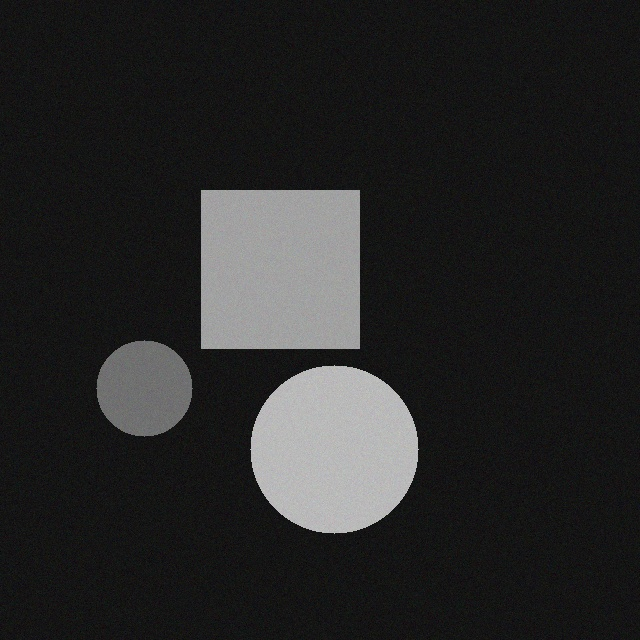circle: (246, 355, 414, 523), (92, 330, 188, 426)
square: (197, 180, 355, 338)
